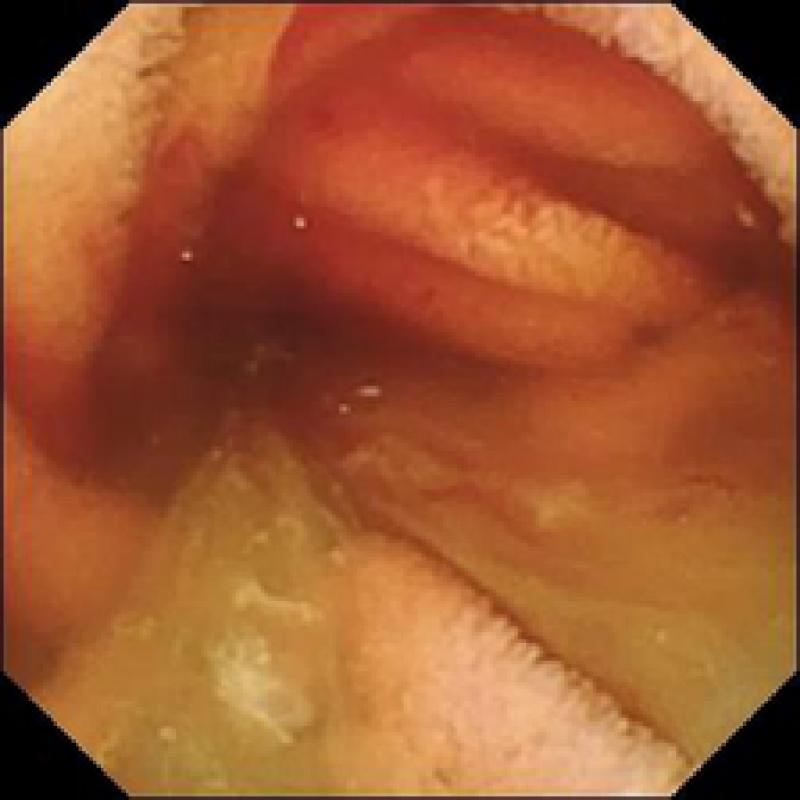bleeding: (0, 0, 785, 490)
